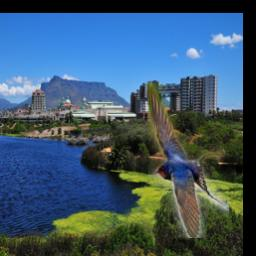Swallow: (149, 83, 230, 239)
